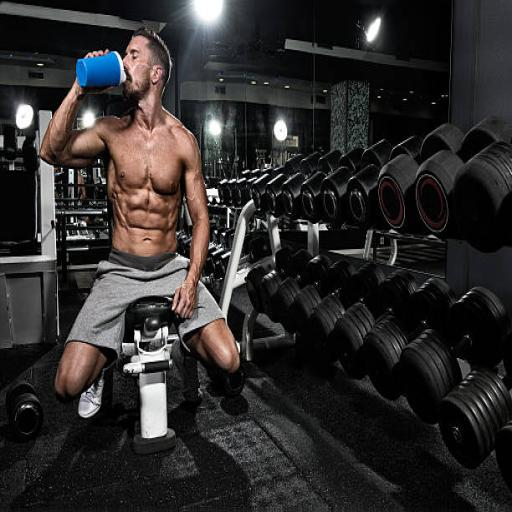Person: (30, 95, 262, 378)
boots: (85, 323, 117, 362)
no_gloves: (168, 264, 210, 304), (78, 116, 121, 154)
no_goggle: (124, 116, 153, 138)
no_helmet: (122, 106, 188, 146)
none: (97, 158, 219, 268)
